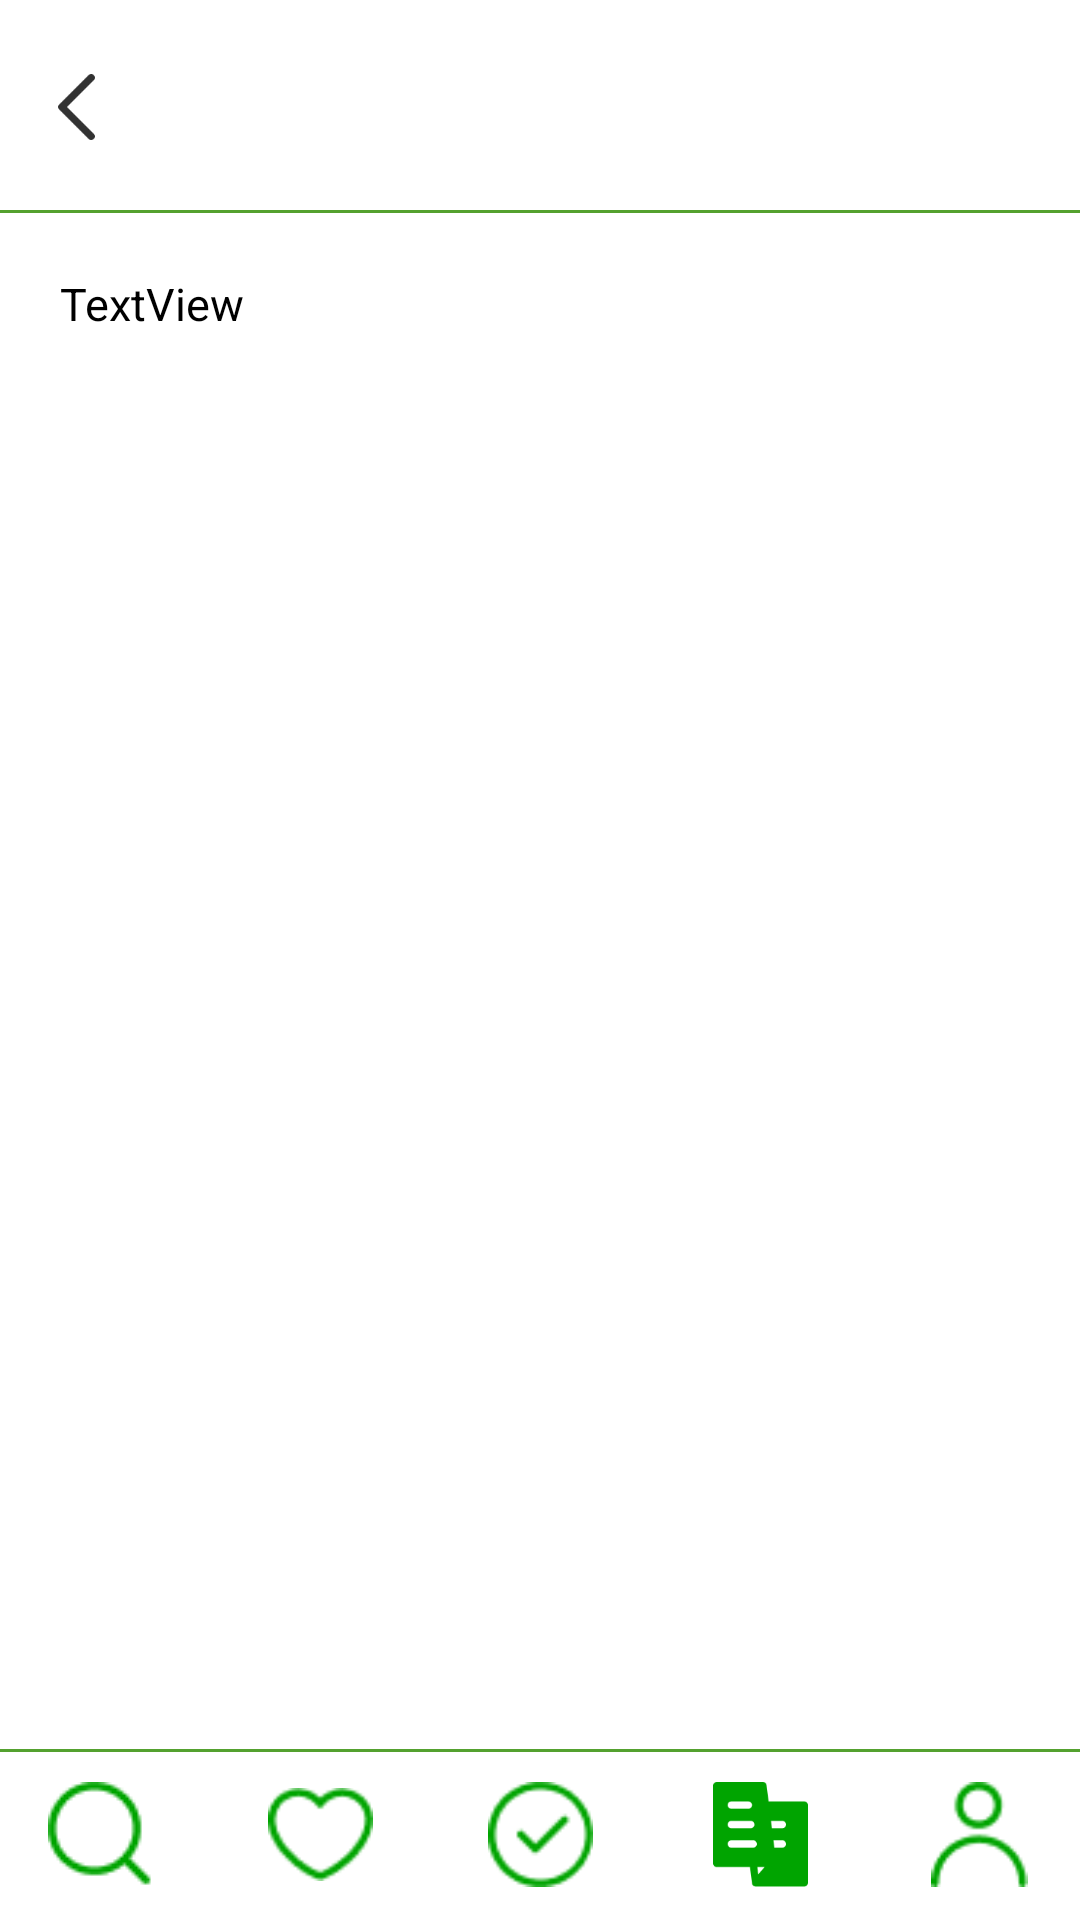

Icon click points for this 1080px x 1920px phone screenshot, format (x=x, y=y):
back: (x=76, y=107)
offcheck: (x=540, y=1834)
offheart: (x=320, y=1834)
offprofile: (x=979, y=1834)
offsearch: (x=99, y=1833)
onmagazine: (x=760, y=1834)
